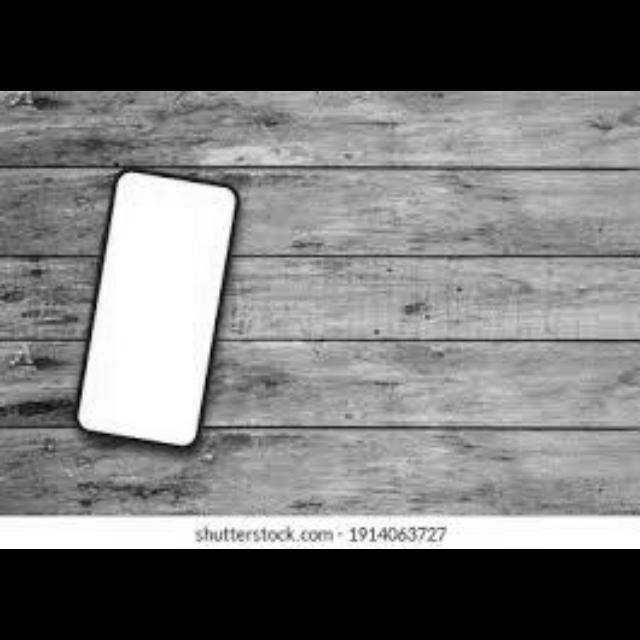fake: (86, 168, 234, 456)
